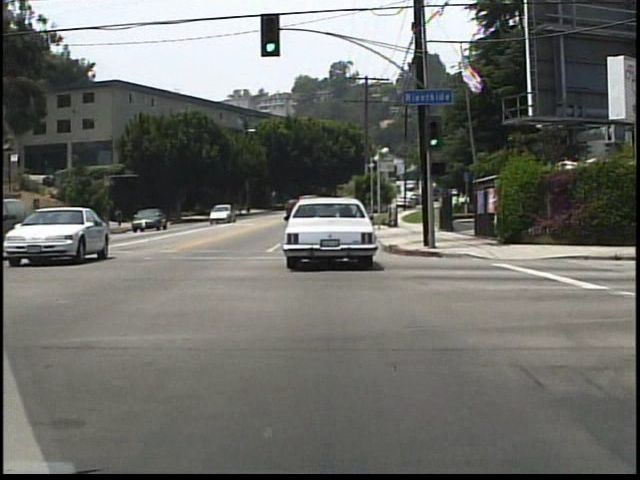person: (116, 207, 127, 229)
